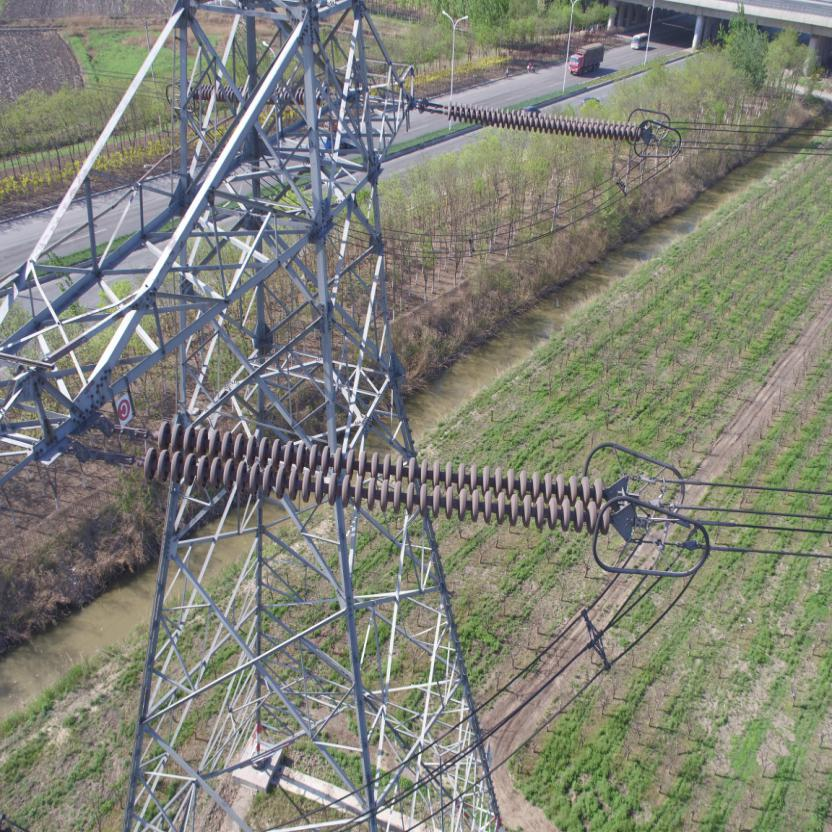insulator: (107, 416, 618, 537), (448, 98, 642, 142)
